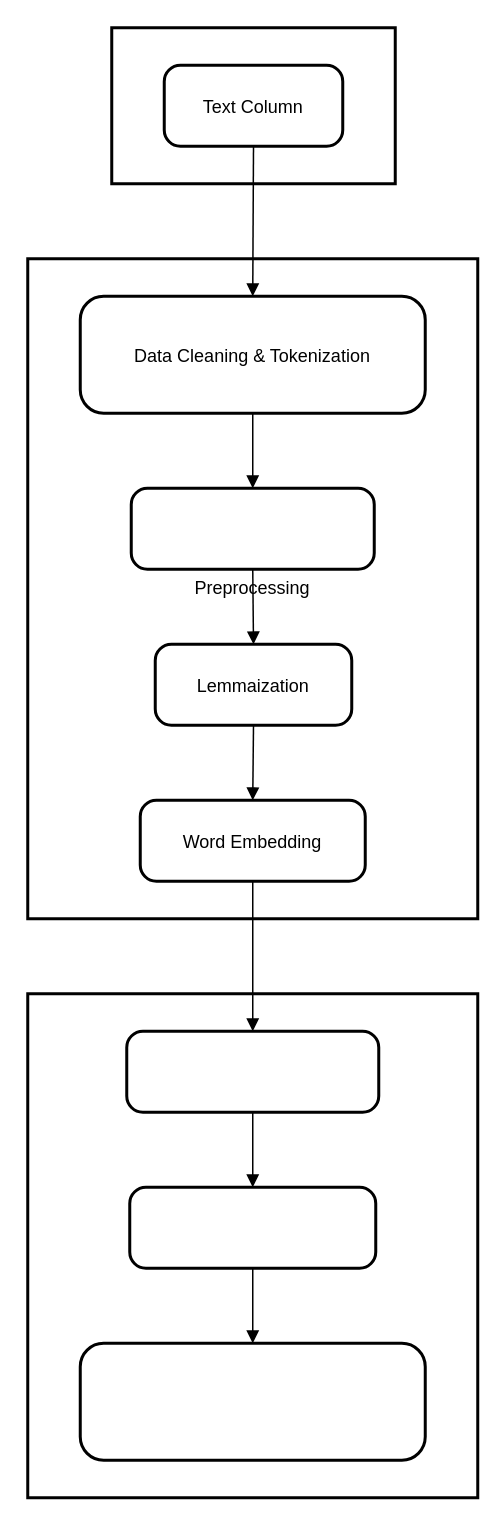
Some shapes in this 504 by 1524 pixel diagram are drawn without their labels. Each missing label, with the centre of its shape:
"Feature Extraction" goes at [252,1227].
"Model Initialization" goes at [252,1071].
"Semantic Similarity Calculation" goes at [252,1401].
"Stopword Removal" goes at [252,528].
